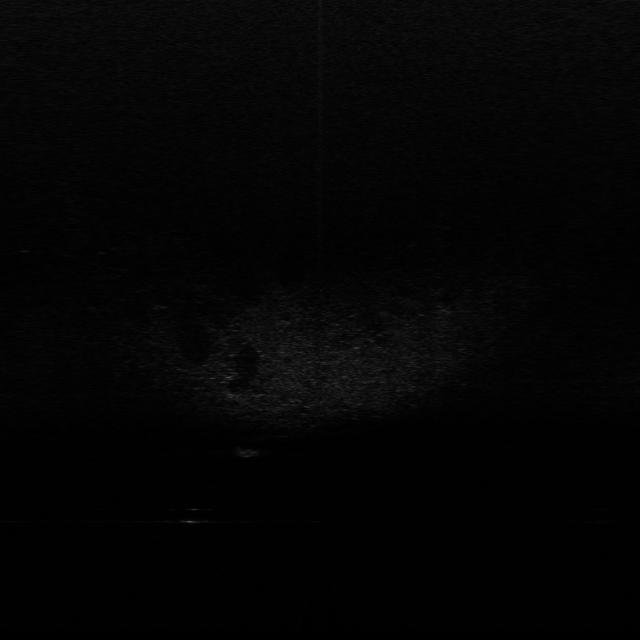ball: (178, 501, 218, 527)
cube: (236, 442, 263, 461)
